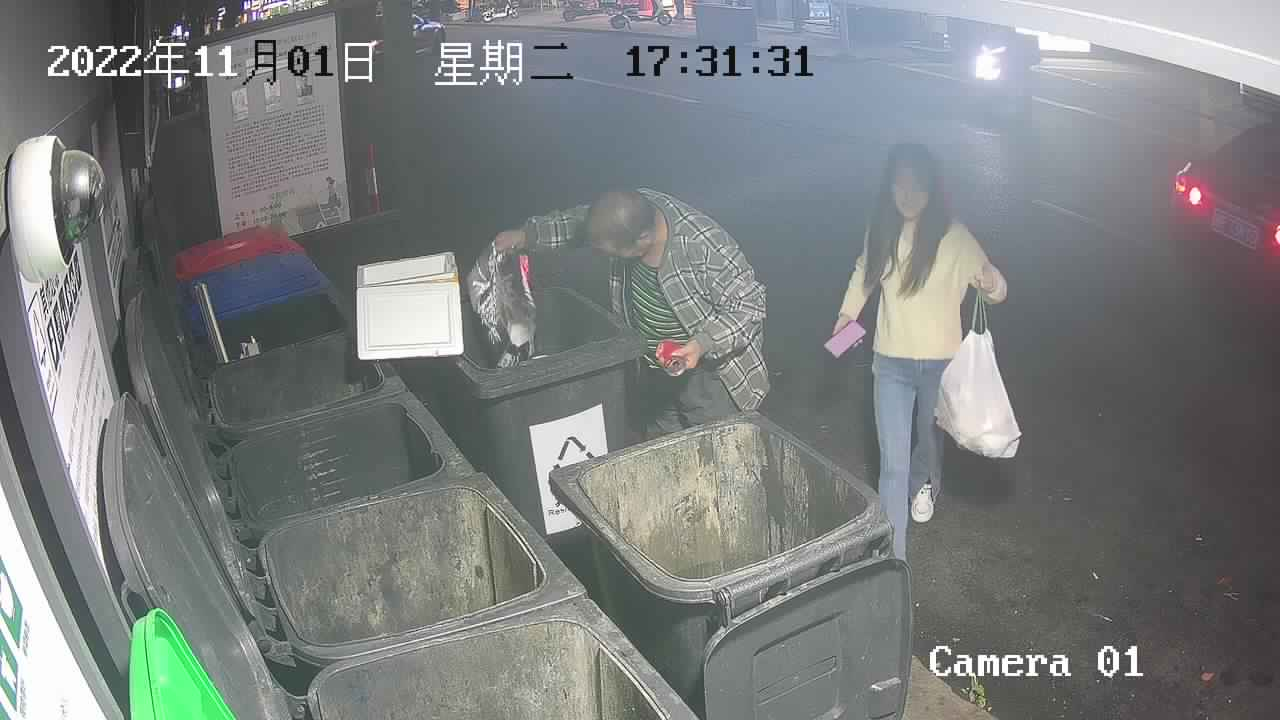garbage-bag: (930, 288, 1022, 461), (466, 241, 539, 370)
lvzhipin: (652, 336, 688, 380)
person: (832, 141, 1007, 566), (493, 185, 774, 442)
